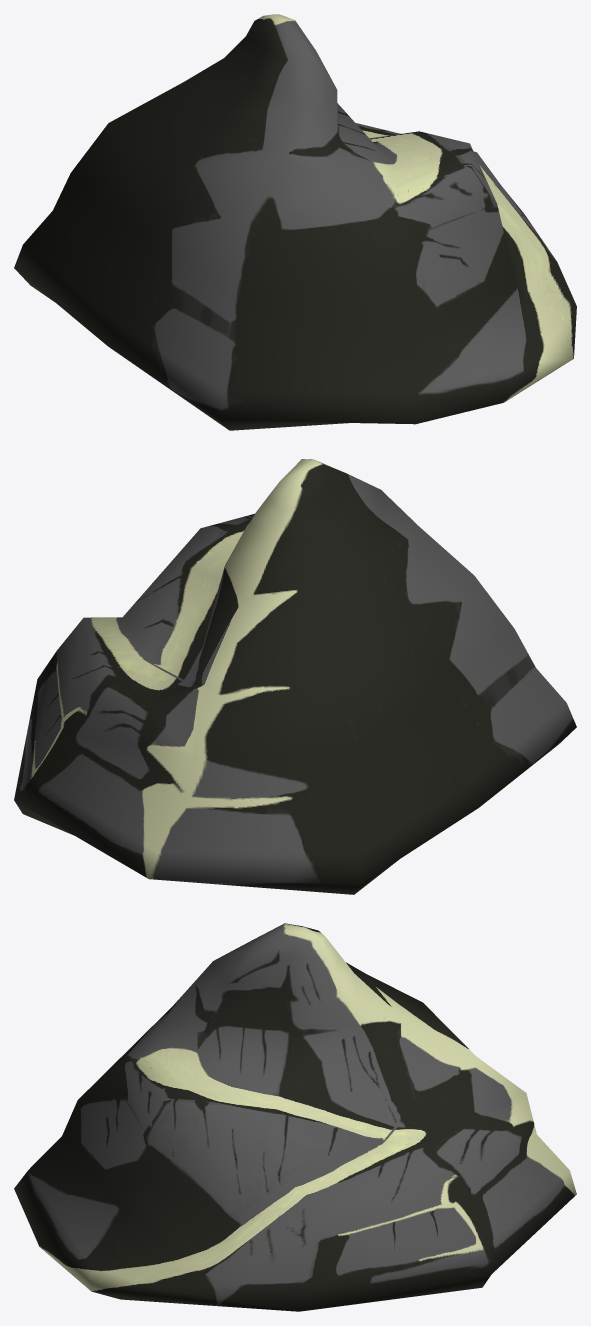
File: mountain1.fbx
3 renders of one model, top to bottom at view 1: azimuth 30°, elevation 25°; view 2: azimuth 150°, elevation 25°; view 3: azimuth 270°, elevation 25°, orthographic. The views are drawn at different scales.
Visible parts, largest first — view 1: Cube; view 2: Cube; view 3: Cube.
Boxes of the visible parts, x1,y1,x2,y2 form: Cube: (14, 14, 576, 430); Cube: (14, 459, 576, 894); Cube: (14, 923, 576, 1311).
Bounding box in the file's own units: 373 × 258 × 459.
1 material, 1 textured.
